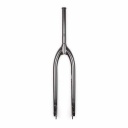fork: (51, 8, 89, 128)
